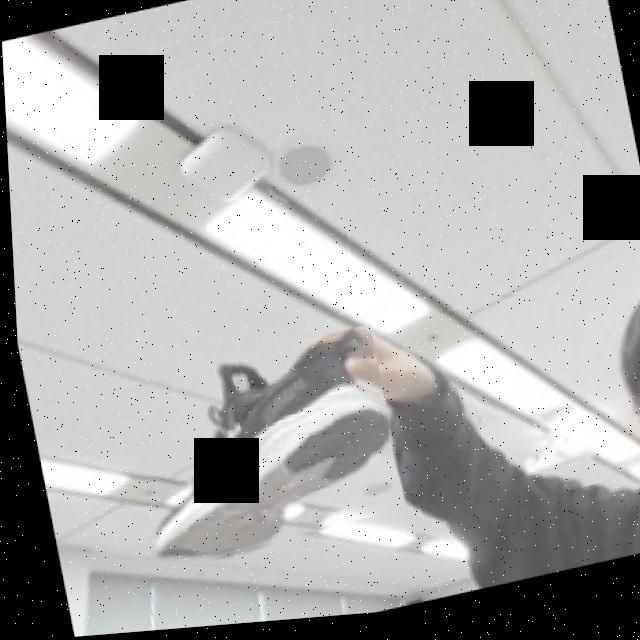shoe: (111, 329, 403, 578)
